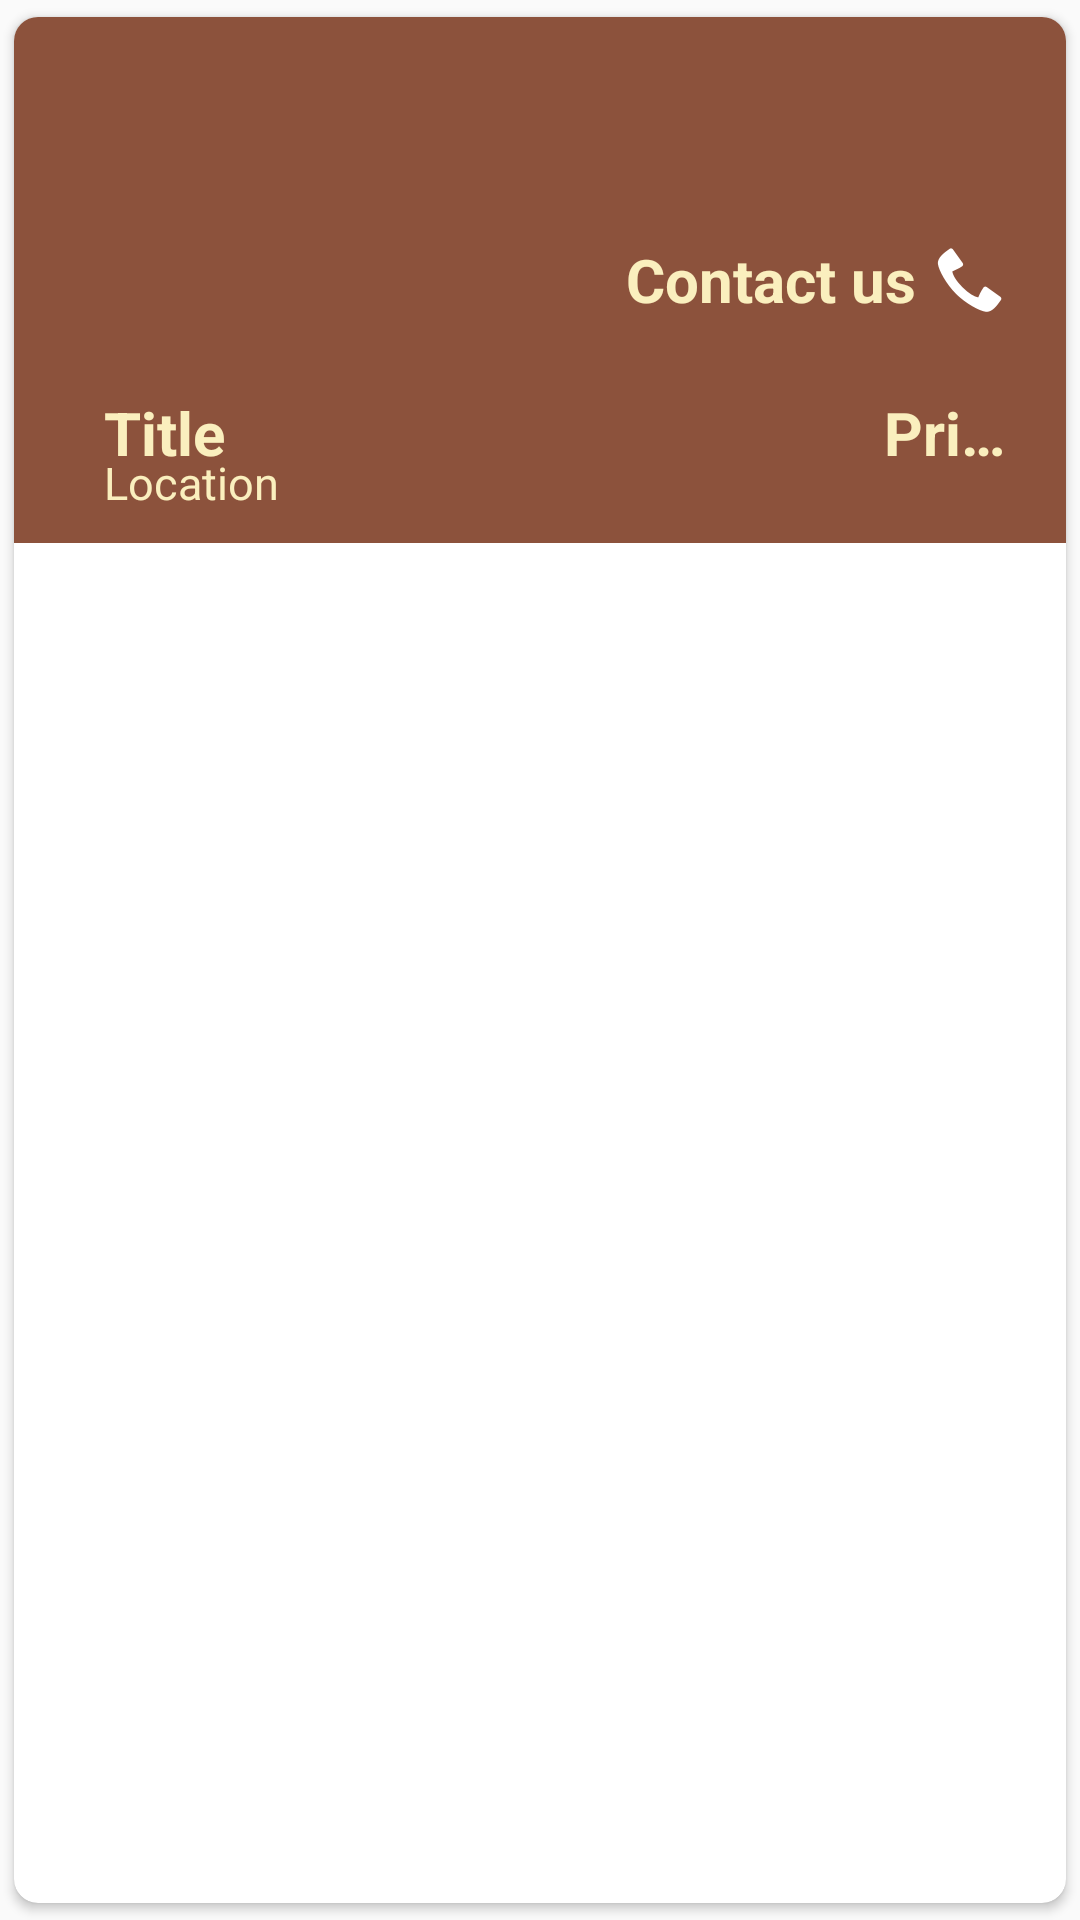

Locate icon controls on the screen. Image size 1080px×1920px, boxes as [x1=x1, y1=y1, x2=x2, y2=y2].
phone call: [x1=938, y1=248, x2=1002, y2=312]
